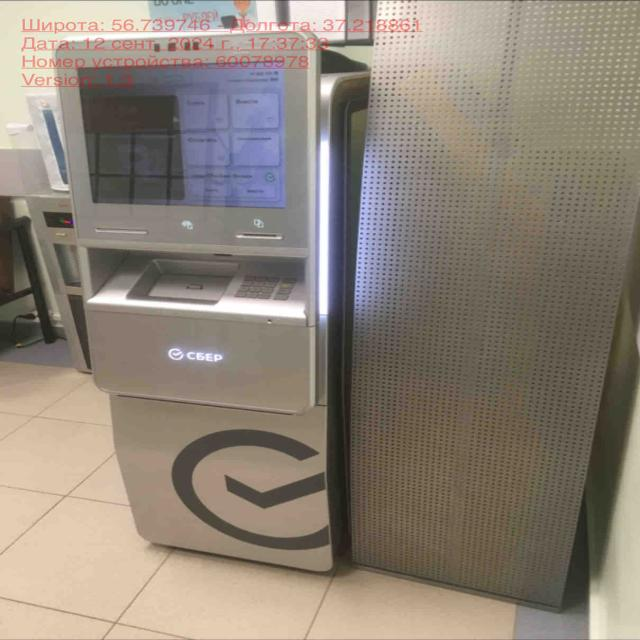bank: (54, 27, 364, 577)
